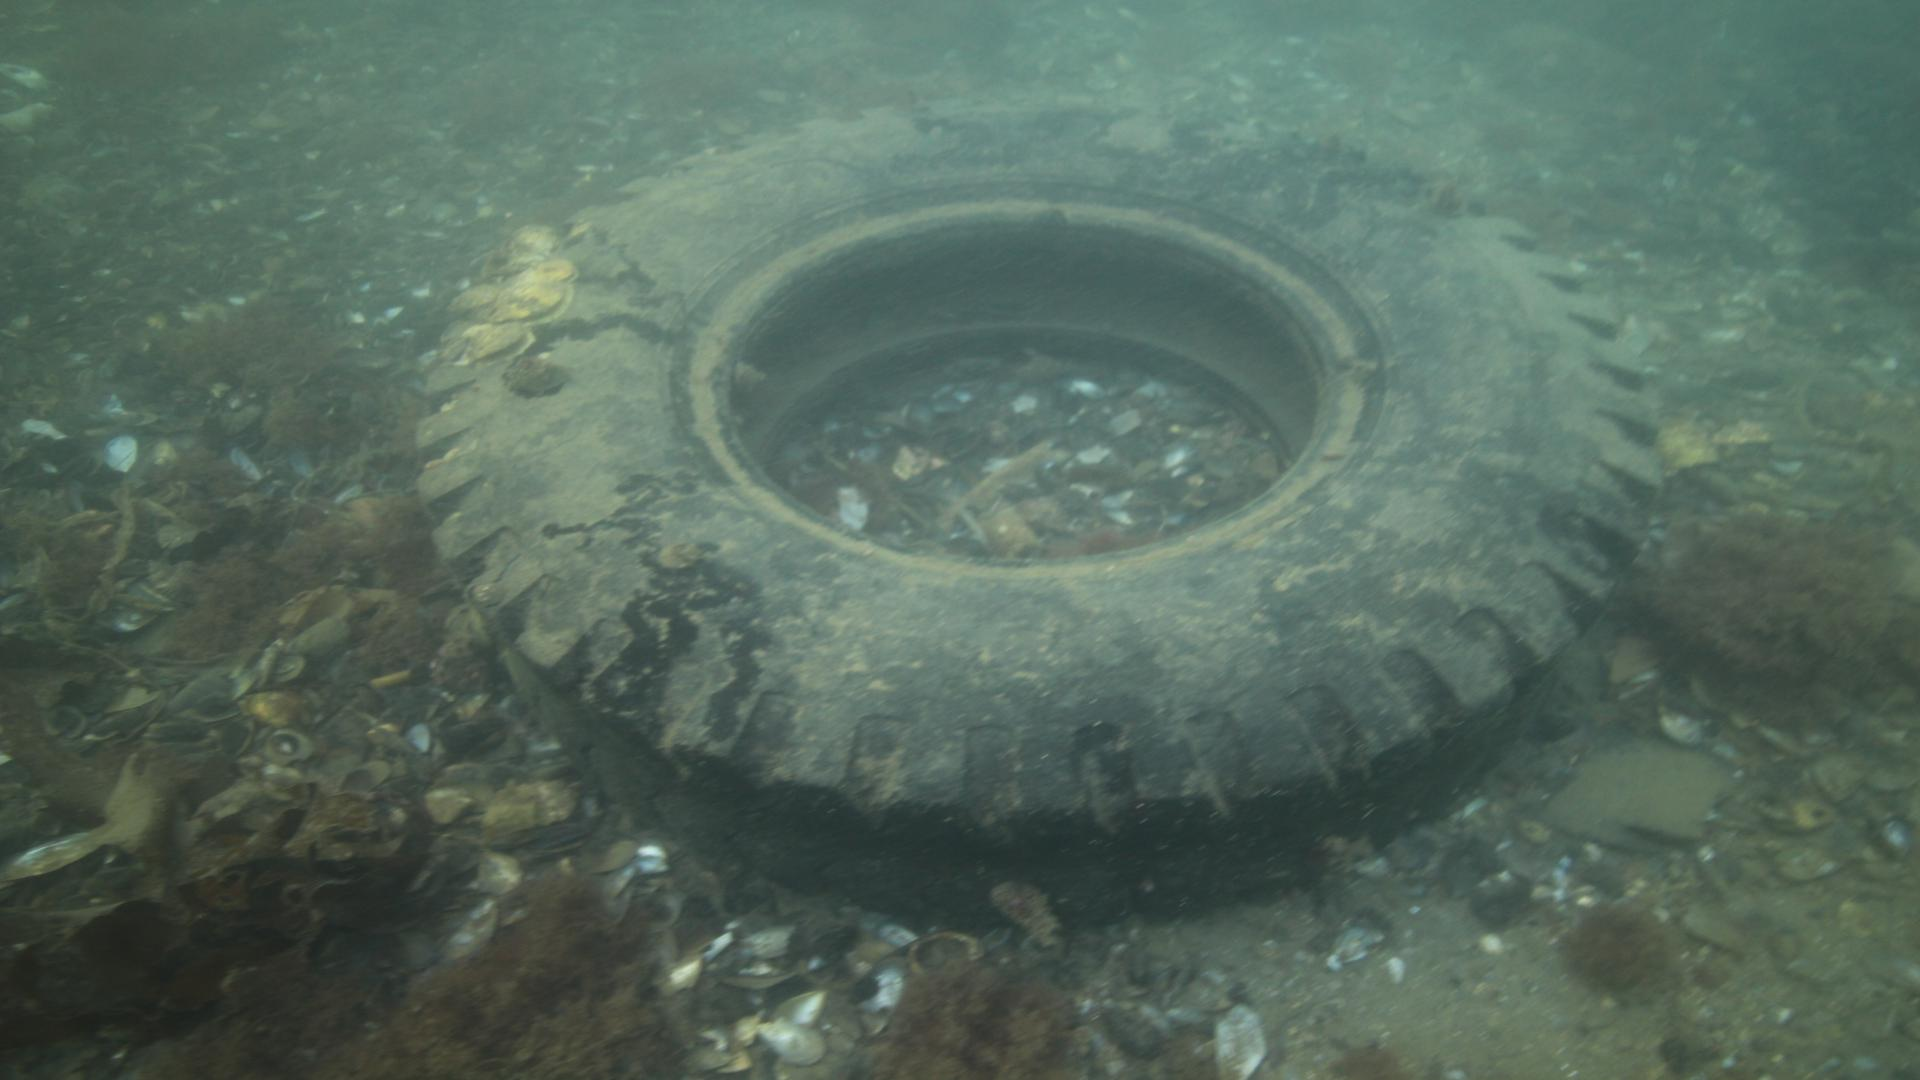tire: (411, 100, 1667, 916)
